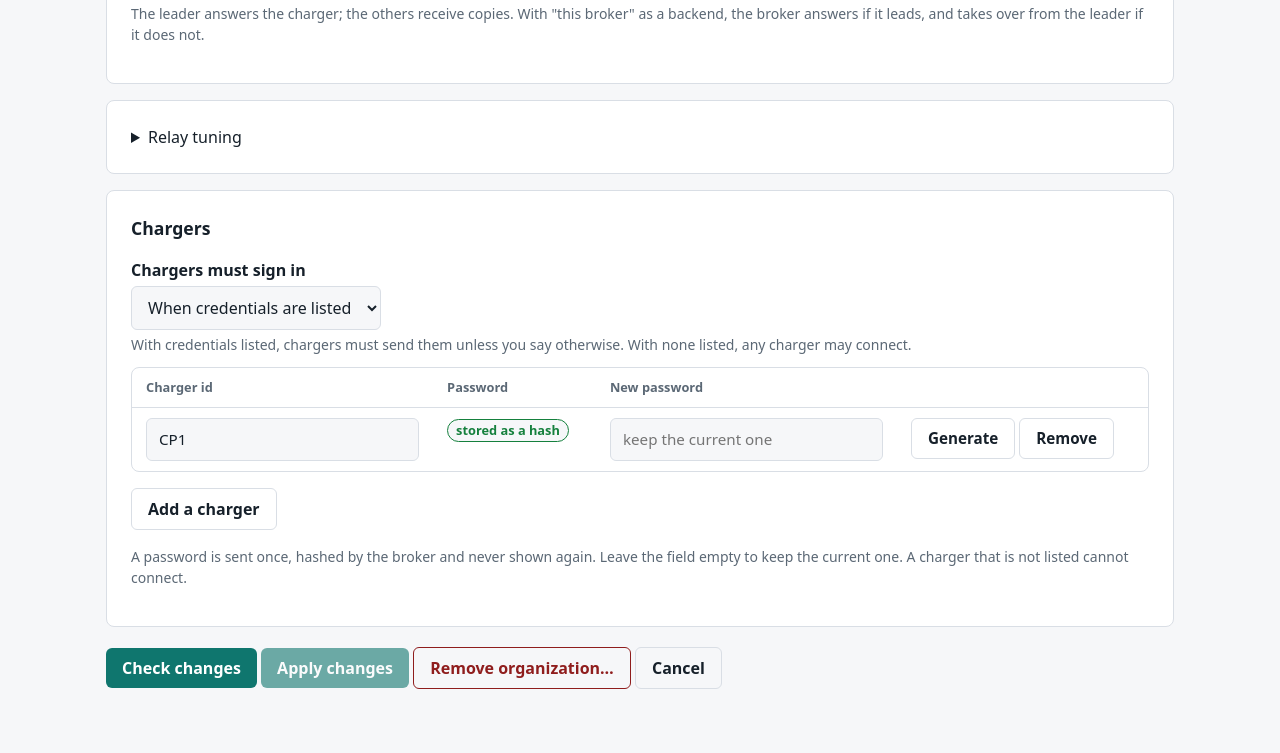
changing an organization › says when a check finds nothing to change, and offers no way to apply it
(page scrolled)
Click the button "Check changes" at (181, 668), box [106,648,257,688]
(page scrolled)
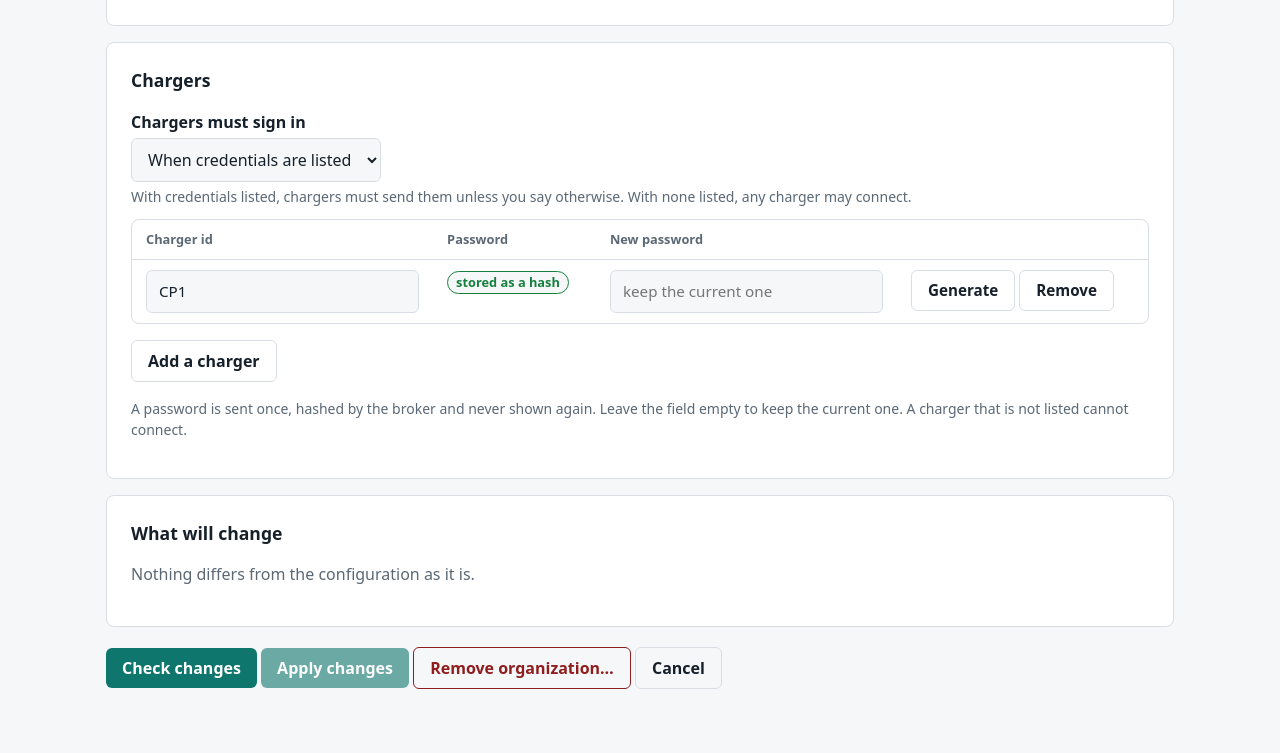
Expected: the button "Apply changes" is disabled, [261,648,409,688]
Expected: the text "Nothing differs from the configuration as it is." is shown, [131,563,475,585]
